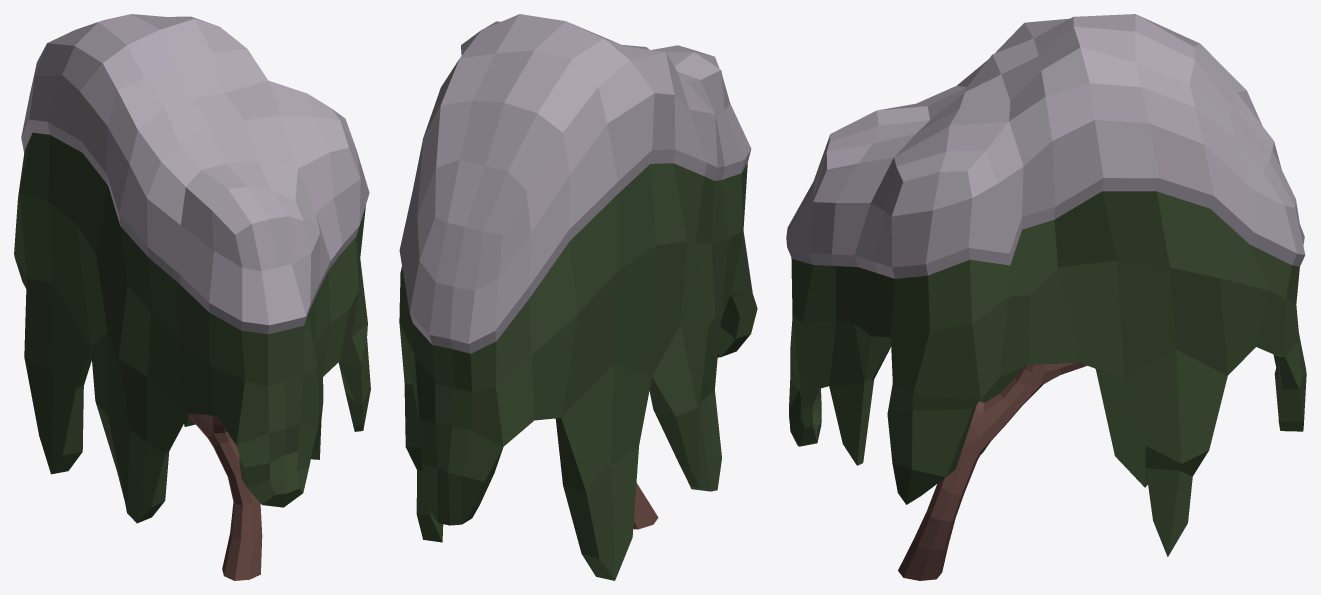
Rendered from Willow_Snow_1.gltf.
3 views of the same model, side by side, from view 1: azimuth 30°, elevation 25°; view 2: azimuth 150°, elevation 25°; view 3: azimuth 270°, elevation 25° (orthographic). The views are drawn at different scales.
Visible parts, largest first — view 1: Willow_Snow_1; view 2: Willow_Snow_1; view 3: Willow_Snow_1.
Part boxes in pixels (x1,y1,x2,y2): Willow_Snow_1: (14, 14, 370, 580); Willow_Snow_1: (399, 14, 757, 580); Willow_Snow_1: (786, 14, 1306, 580).
Bounding box in the file's own units: 1.45 × 2.93 × 2.57.
